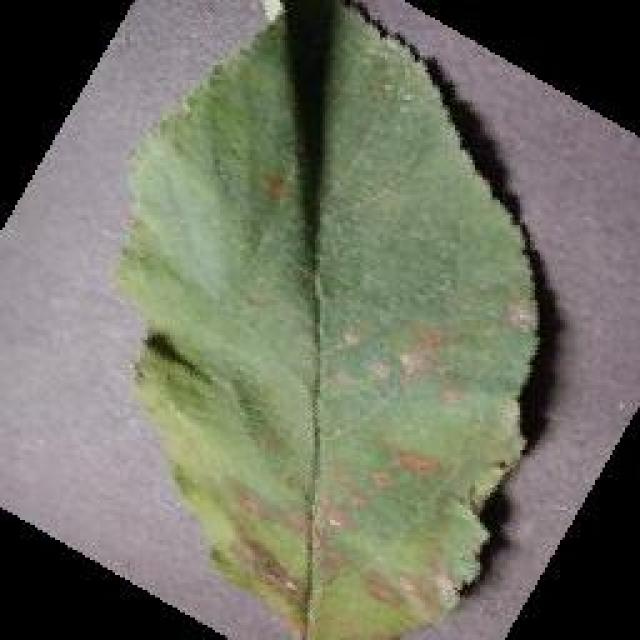apple cedar apple rust: (113, 0, 555, 638)
